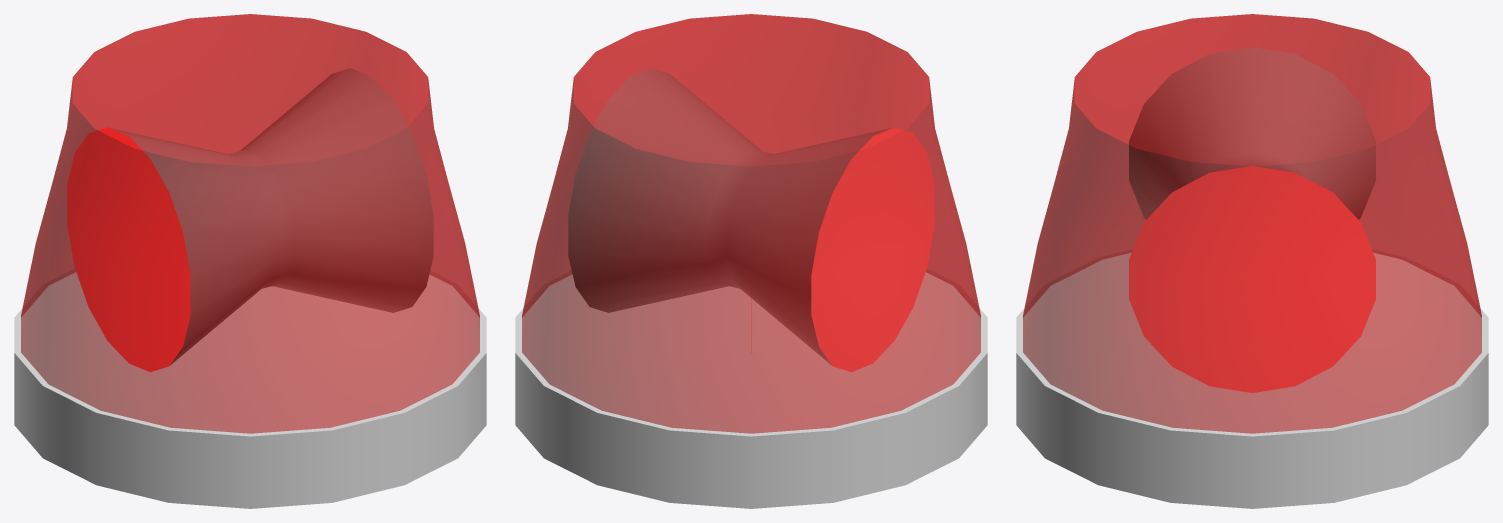
Rendered from Target.fbx.
3 renders of one model, left to right at view 1: azimuth 30°, elevation 25°; view 2: azimuth 150°, elevation 25°; view 3: azimuth 270°, elevation 25°, orthographic.
Visible parts, largest first — view 1: Glass, Base, Inards; view 2: Glass, Base, Inards; view 3: Glass, Base, Inards.
Boxes of the visible parts, <box> form: Glass: <box>21,14,479,433</box>; Base: <box>14,269,486,508</box>; Inards: <box>67,68,433,372</box>; Glass: <box>522,14,980,433</box>; Base: <box>515,269,987,508</box>; Inards: <box>568,68,934,372</box>; Glass: <box>1023,14,1481,433</box>; Base: <box>1016,249,1488,508</box>; Inards: <box>1129,47,1375,392</box>.
Size of the model in its own units: 23.62 by 17.25 by 23.26.
